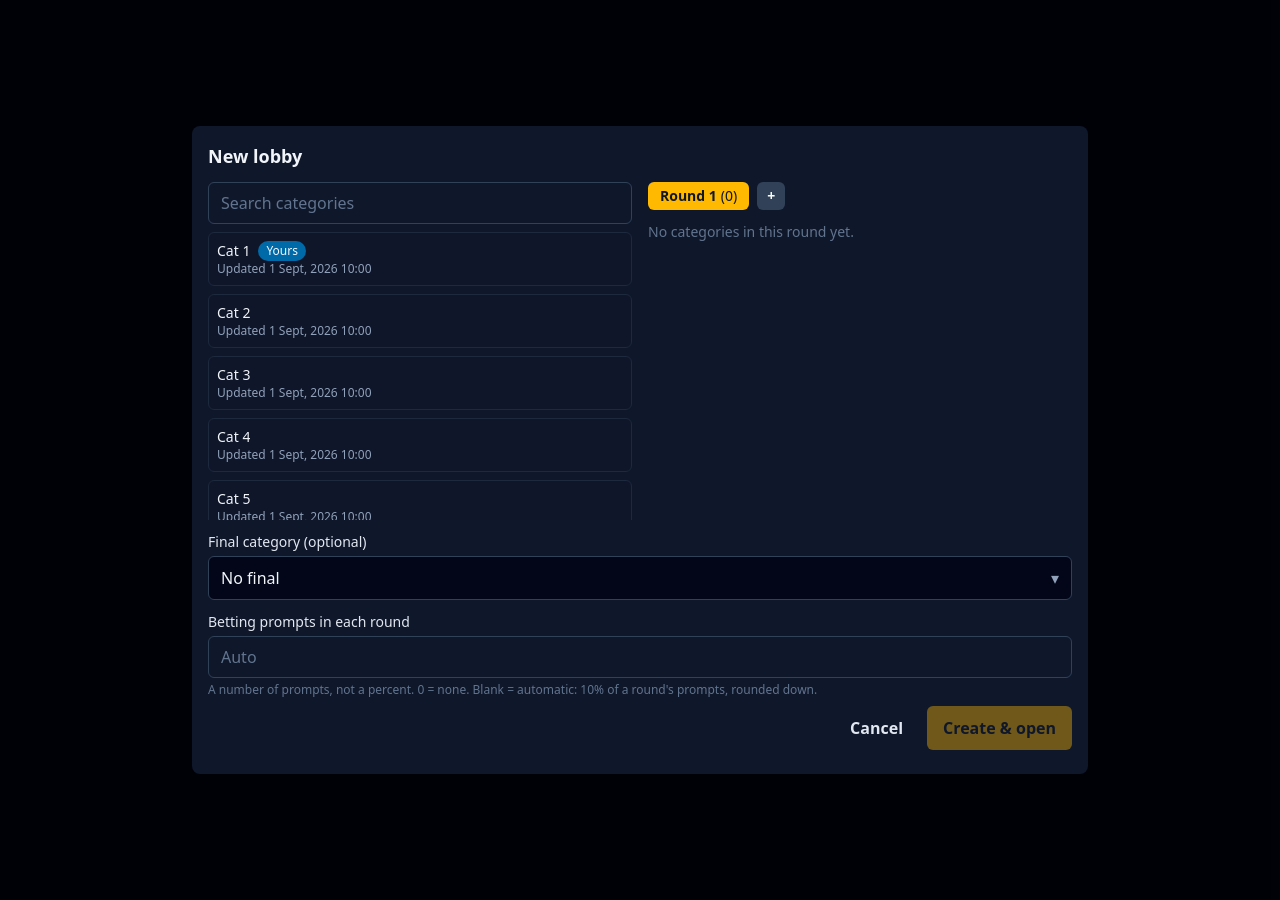
Test: CreateLobbyModal rounds editor › previews betting prompts per round for the default and a custom count
The width and height of the screenshot is (1280, 900).
Click the button with aria-label "Add Cat 1 to round 1" at (234, 250), box x1=208 y1=232 x2=632 y2=286
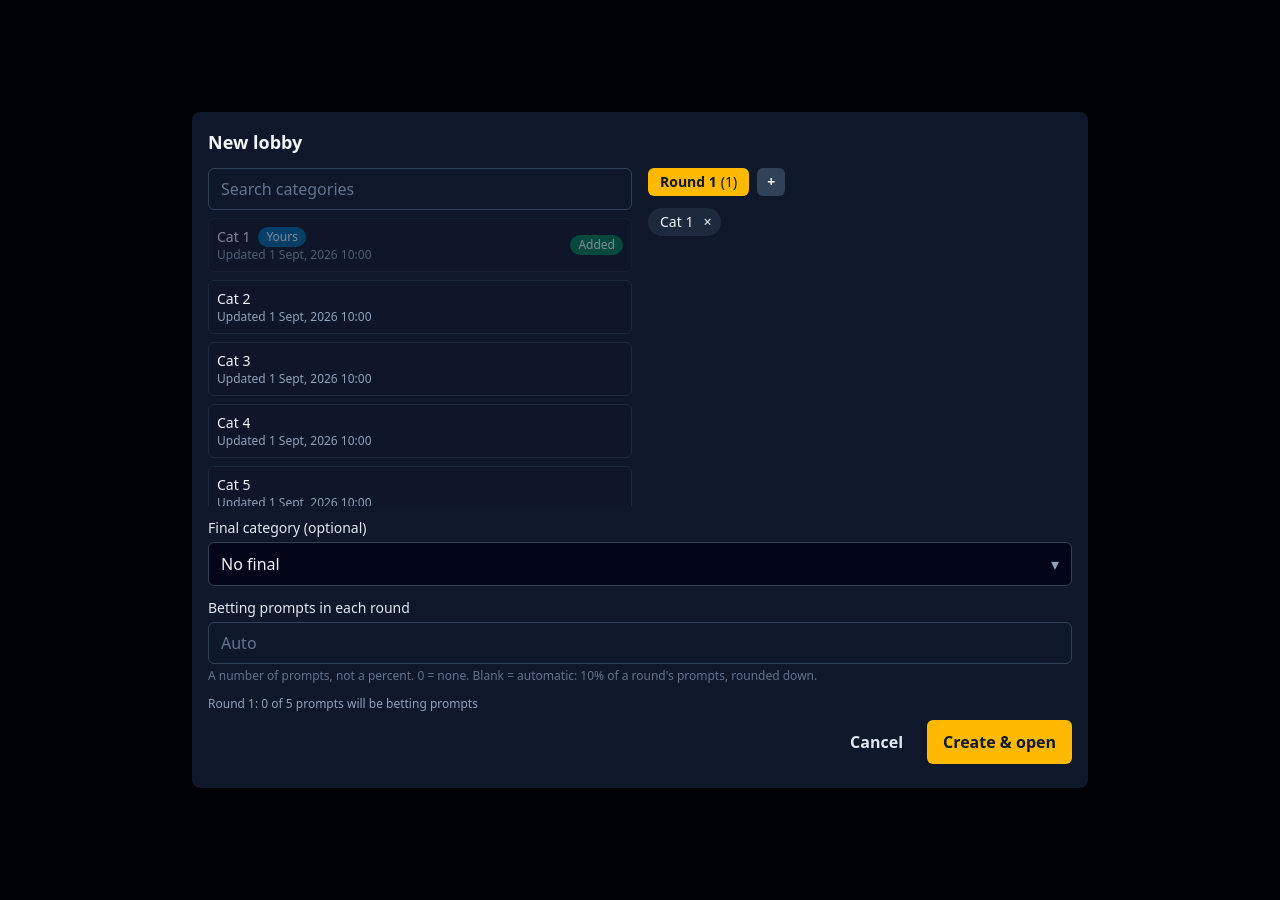
Expected: the list item "Round 1: 0 of 5 prompts will be betting prompts" is shown, x1=208 y1=695 x2=478 y2=712
Click the button "Cat 2 Updated 1 Sept, 2026 10:00" at (234, 298), box x1=208 y1=280 x2=632 y2=334
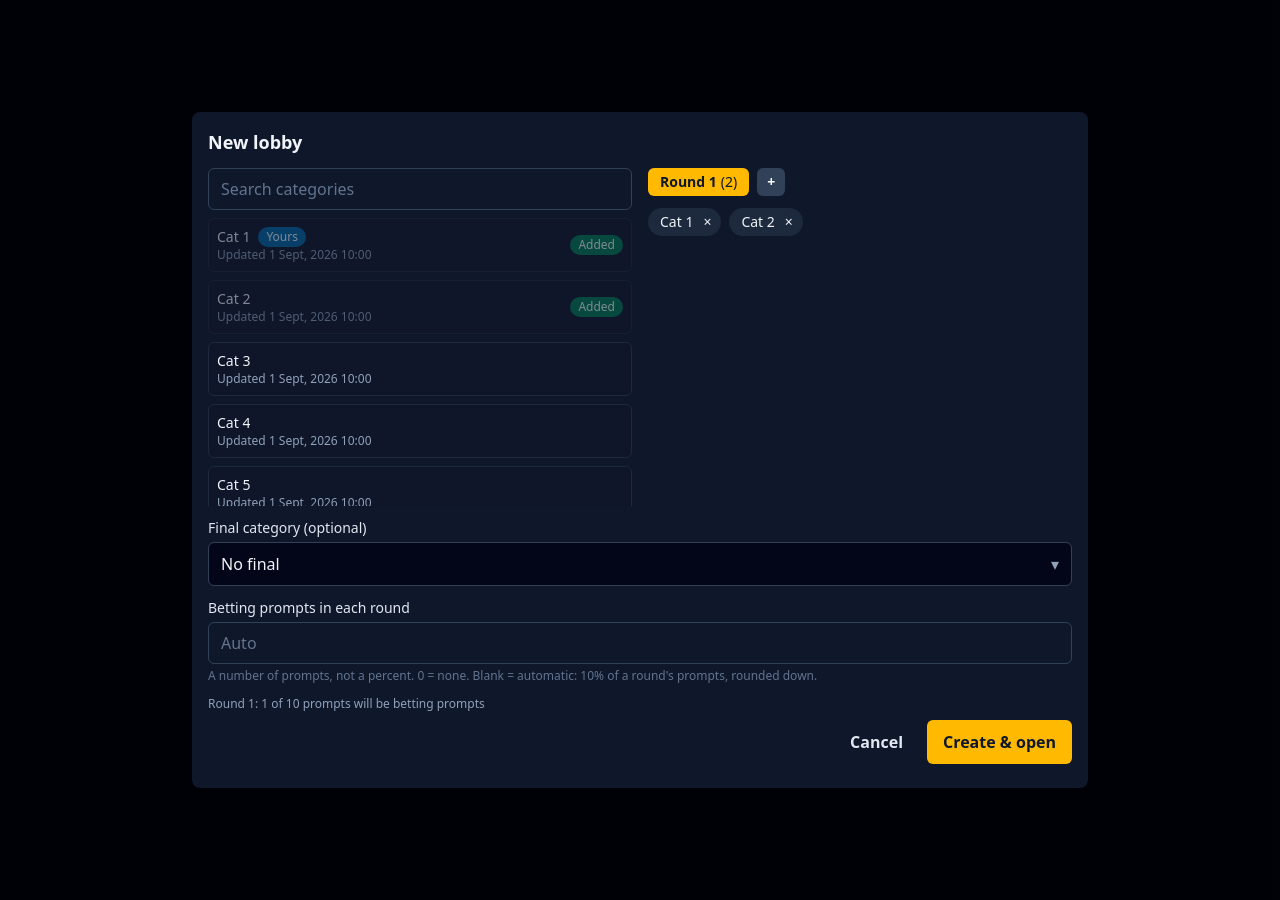
Click the button "Cat 3 Updated 1 Sept, 2026 10:00" at (234, 360), box x1=208 y1=342 x2=632 y2=396
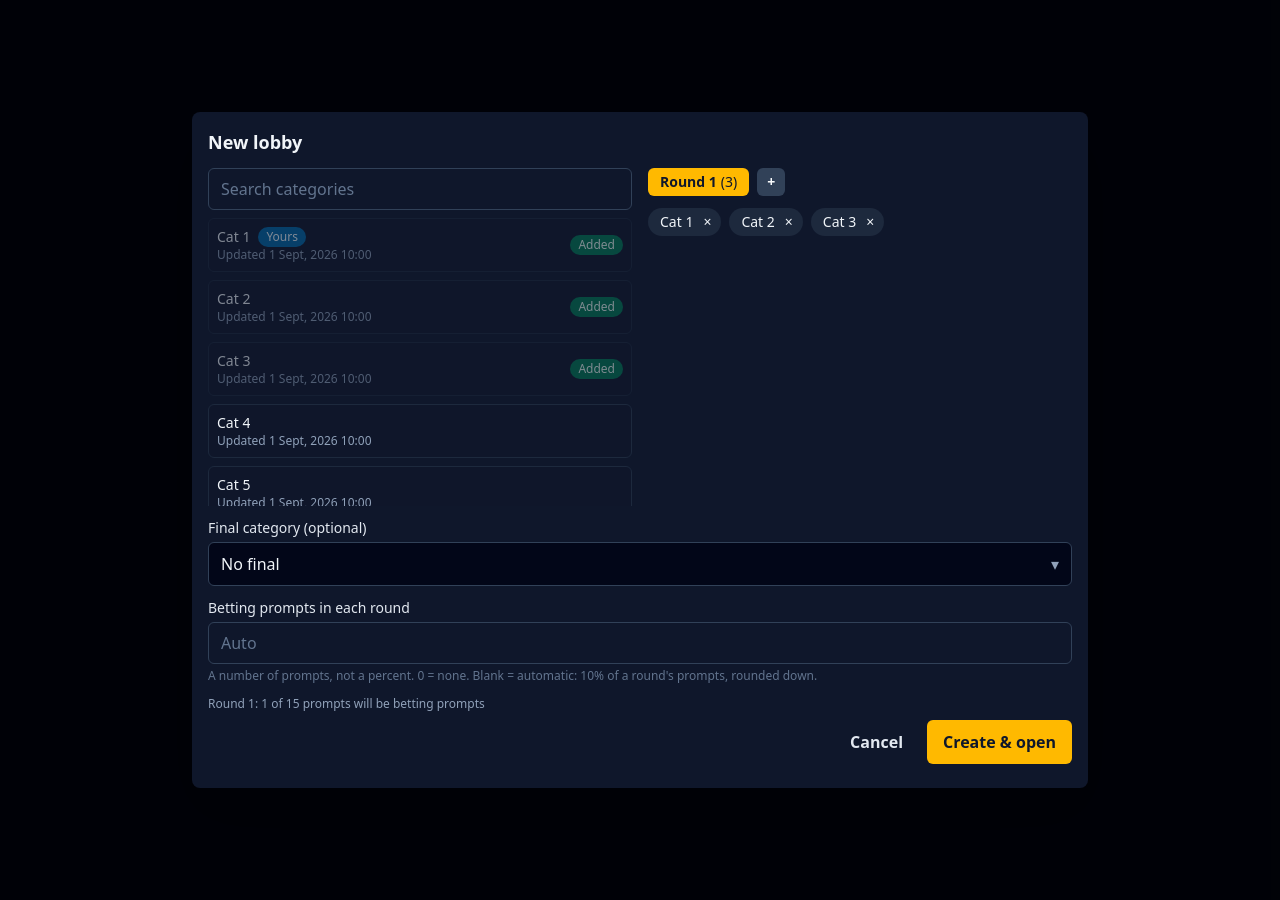
Expected: the list item "Round 1: 1 of 15 prompts will be betting prompts" is shown, x1=208 y1=695 x2=485 y2=712
Type "4" into the number field labelled "Betting prompts in each round" at (640, 643), box x1=208 y1=622 x2=1072 y2=664
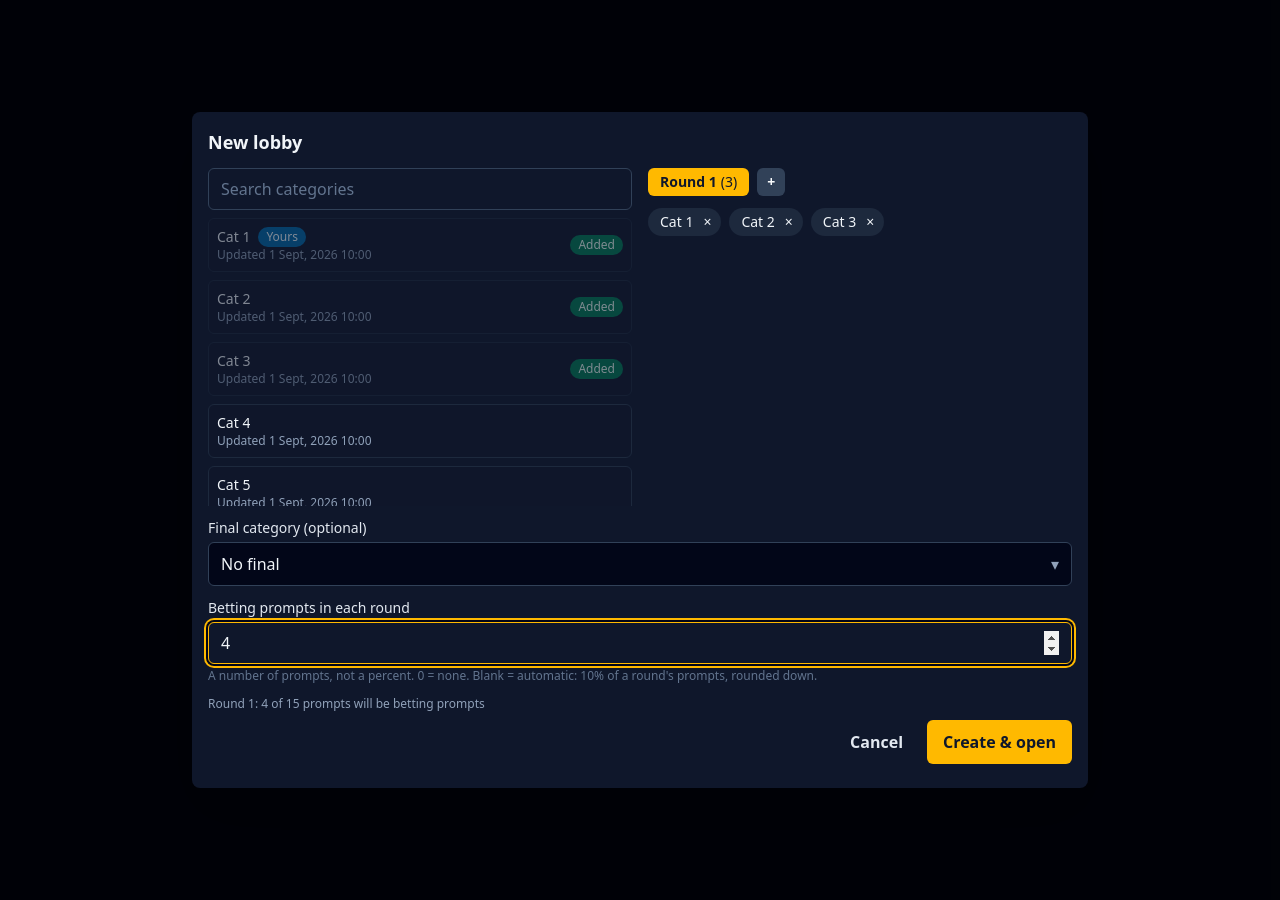
Expected: the list item "Round 1: 4 of 15 prompts will be betting prompts" is shown, x1=208 y1=695 x2=485 y2=712
Replace the text in the number field labelled "Betting prompts in each round" with "9" at (640, 643), box x1=208 y1=622 x2=1072 y2=664
Click the button named "Remove Cat 1 from round 1" at (707, 222), box x1=697 y1=212 x2=717 y2=232
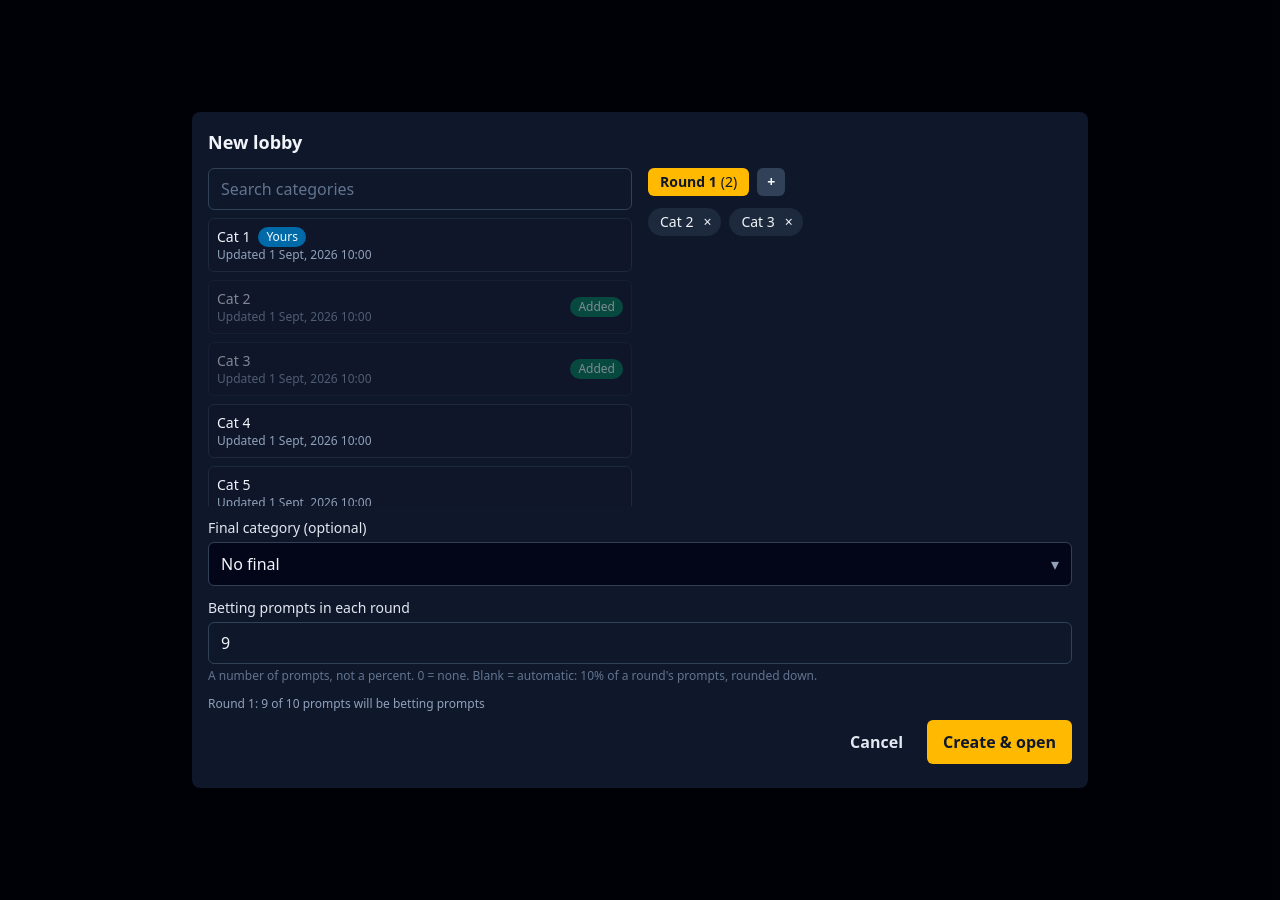
Click the button named "Remove Cat 3 from round 1" at (789, 222), box x1=779 y1=212 x2=799 y2=232
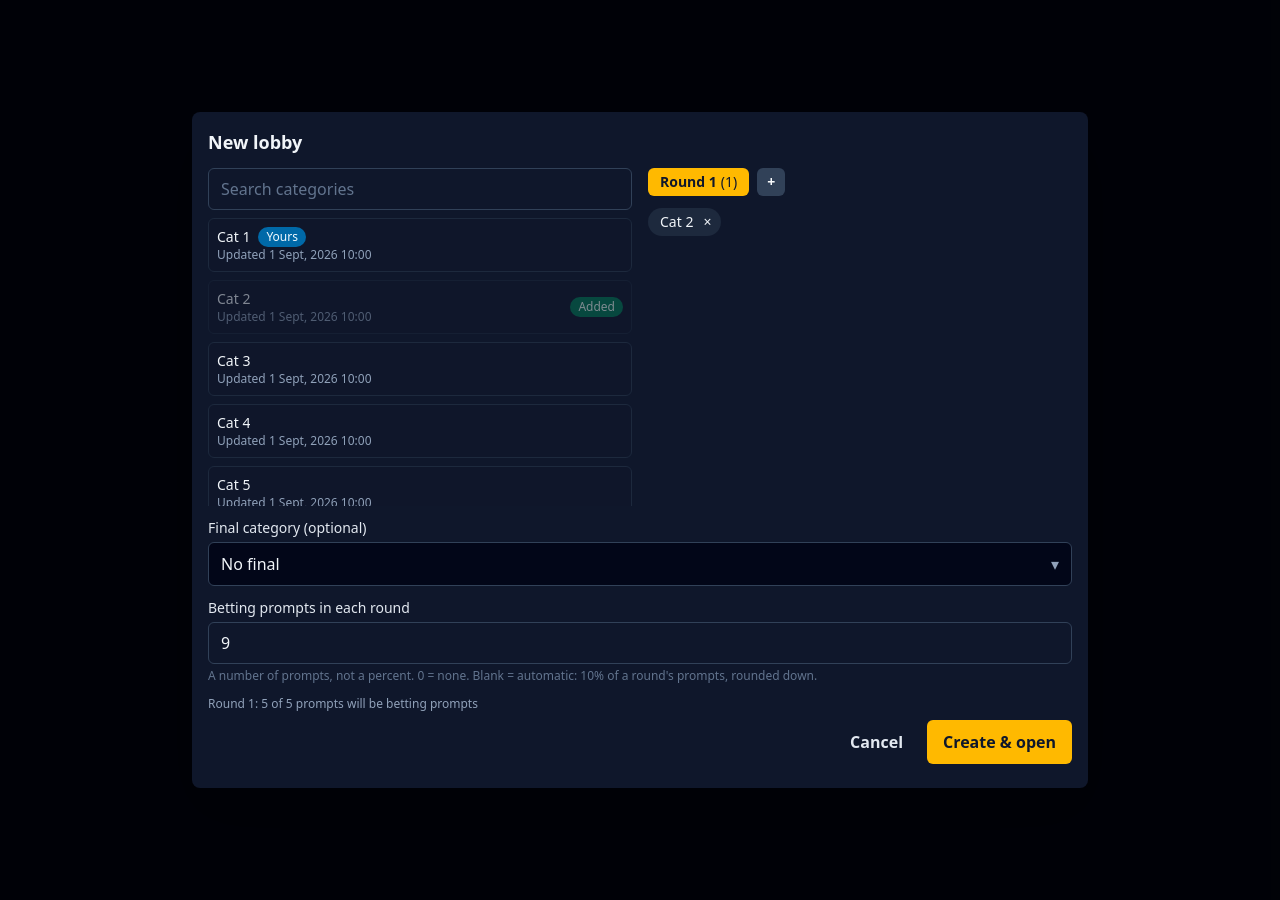
Expected: the list item "Round 1: 5 of 5 prompts will be betting prompts" is shown, x1=208 y1=695 x2=478 y2=712
